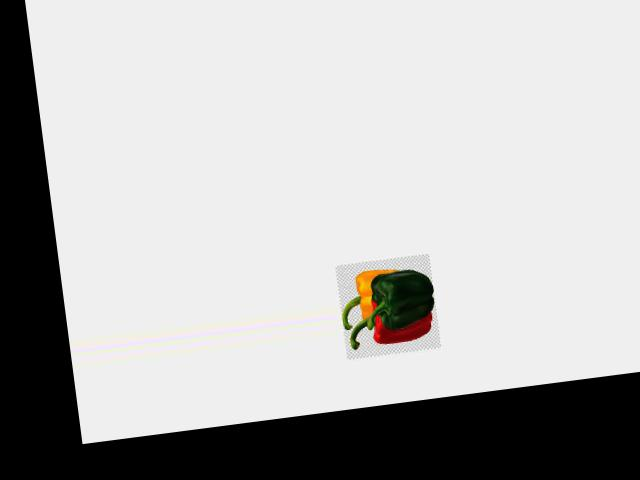bell_pepper: (343, 294, 438, 360)
